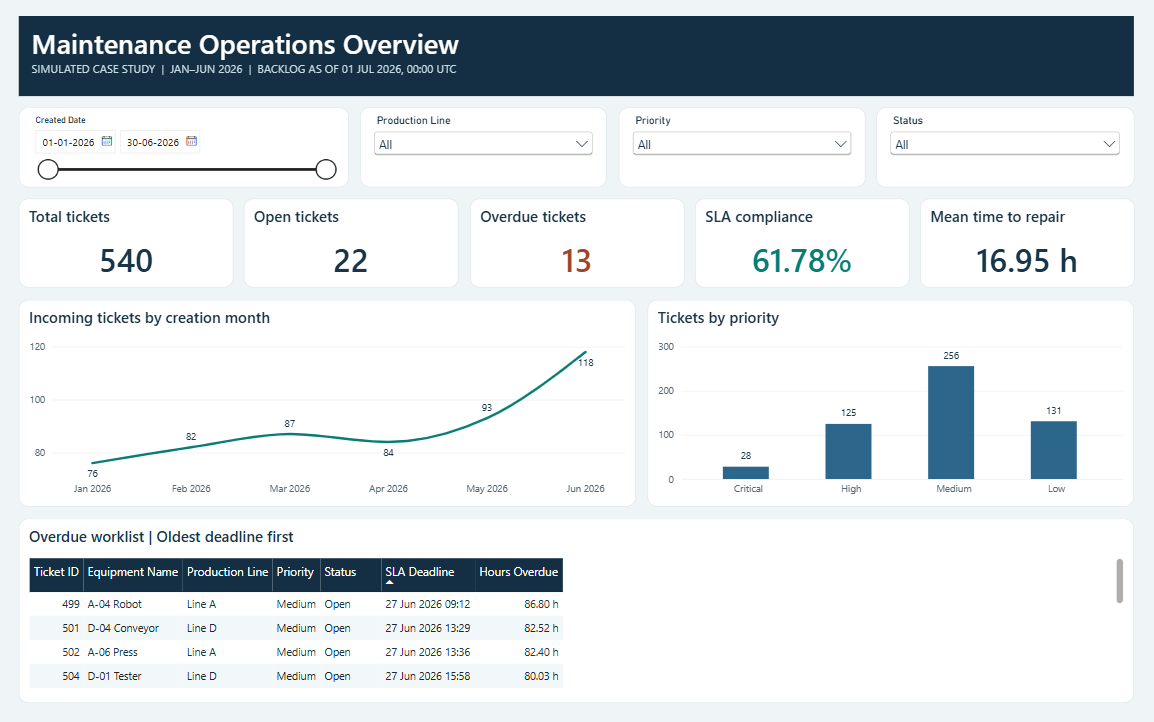

The dashboard page shown, as its layout file describes it:
{"tool":"powerbi","page":{"name":"Maintenance Operations Overview","canvas":[1440,900],"ordinal":0},"visuals":[{"type":"textbox","box":[24,18,1392,100],"z":0},{"type":"slicer","fields":{"Values":["Calendar.Date"]},"box":[24,132,412,100],"z":1000},{"type":"slicer","fields":{"Values":["Equipment.Production Line"]},"box":[450,132,308,100],"z":2000},{"type":"slicer","fields":{"Values":["Tickets.Priority"]},"box":[772,132,308,100],"z":3000},{"type":"slicer","fields":{"Values":["Tickets.Status"]},"box":[1094,132,322,100],"z":4000},{"type":"card","title":"Total tickets","fields":{"Values":["Tickets.Total Tickets"]},"box":[24,247,268,111],"z":5000},{"type":"card","title":"Open tickets","fields":{"Values":["Tickets.Open Tickets"]},"box":[305,247,268,111],"z":6000},{"type":"card","title":"Overdue tickets","fields":{"Values":["Tickets.Overdue Tickets"]},"box":[586,247,268,111],"z":7000},{"type":"card","title":"SLA compliance","fields":{"Values":["Tickets.SLA Compliance %"]},"box":[867,247,268,111],"z":8000},{"type":"card","title":"Mean time to repair","fields":{"Values":["Tickets.MTTR Hours"]},"box":[1148,247,268,111],"z":9000},{"type":"lineChart","title":"Incoming tickets by creation month","fields":{"Category":["Calendar.Month"],"Y":["Tickets.Total Tickets"]},"box":[24,373,770,258],"z":10000},{"type":"clusteredColumnChart","title":"Tickets by priority","fields":{"Category":["Tickets.Priority"],"Y":["Tickets.Total Tickets"]},"box":[809,373,607,258],"z":11000},{"type":"tableEx","title":"Overdue worklist  |  Oldest deadline first","fields":{"Values":["Tickets.Ticket ID","Equipment.Equipment Name","Equipment.Production Line","Tickets.Priority","Tickets.Status","Tickets.SLA Deadline","Tickets.Hours Overdue"]},"box":[24,646,1392,230],"z":12000}]}

Visuals, with their boxes in screenshot pixels (x1, y1, x2, y2), scaled from the page's 1440x900 canvas onto the 1154x722 screenshot:
textbox: x1=19 y1=14 x2=1135 y2=95
slicer - Calendar.Date: x1=19 y1=106 x2=349 y2=186
slicer - Equipment.Production Line: x1=361 y1=106 x2=607 y2=186
slicer - Tickets.Priority: x1=619 y1=106 x2=866 y2=186
slicer - Tickets.Status: x1=877 y1=106 x2=1135 y2=186
"Total tickets" card: x1=19 y1=198 x2=234 y2=287
"Open tickets" card: x1=244 y1=198 x2=459 y2=287
"Overdue tickets" card: x1=470 y1=198 x2=684 y2=287
"SLA compliance" card: x1=695 y1=198 x2=910 y2=287
"Mean time to repair" card: x1=920 y1=198 x2=1135 y2=287
"Incoming tickets by creation month" lineChart: x1=19 y1=299 x2=636 y2=506
"Tickets by priority" clusteredColumnChart: x1=648 y1=299 x2=1135 y2=506
"Overdue worklist  |  Oldest deadline first" tableEx: x1=19 y1=518 x2=1135 y2=703
